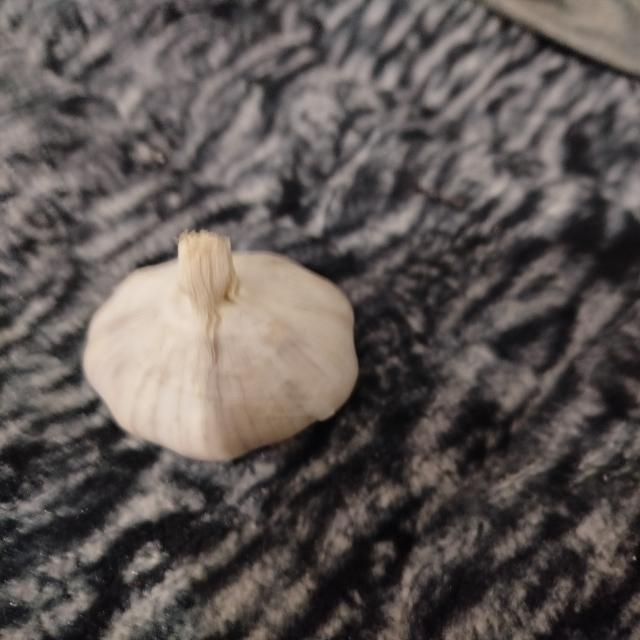garlic: (81, 228, 359, 462)
